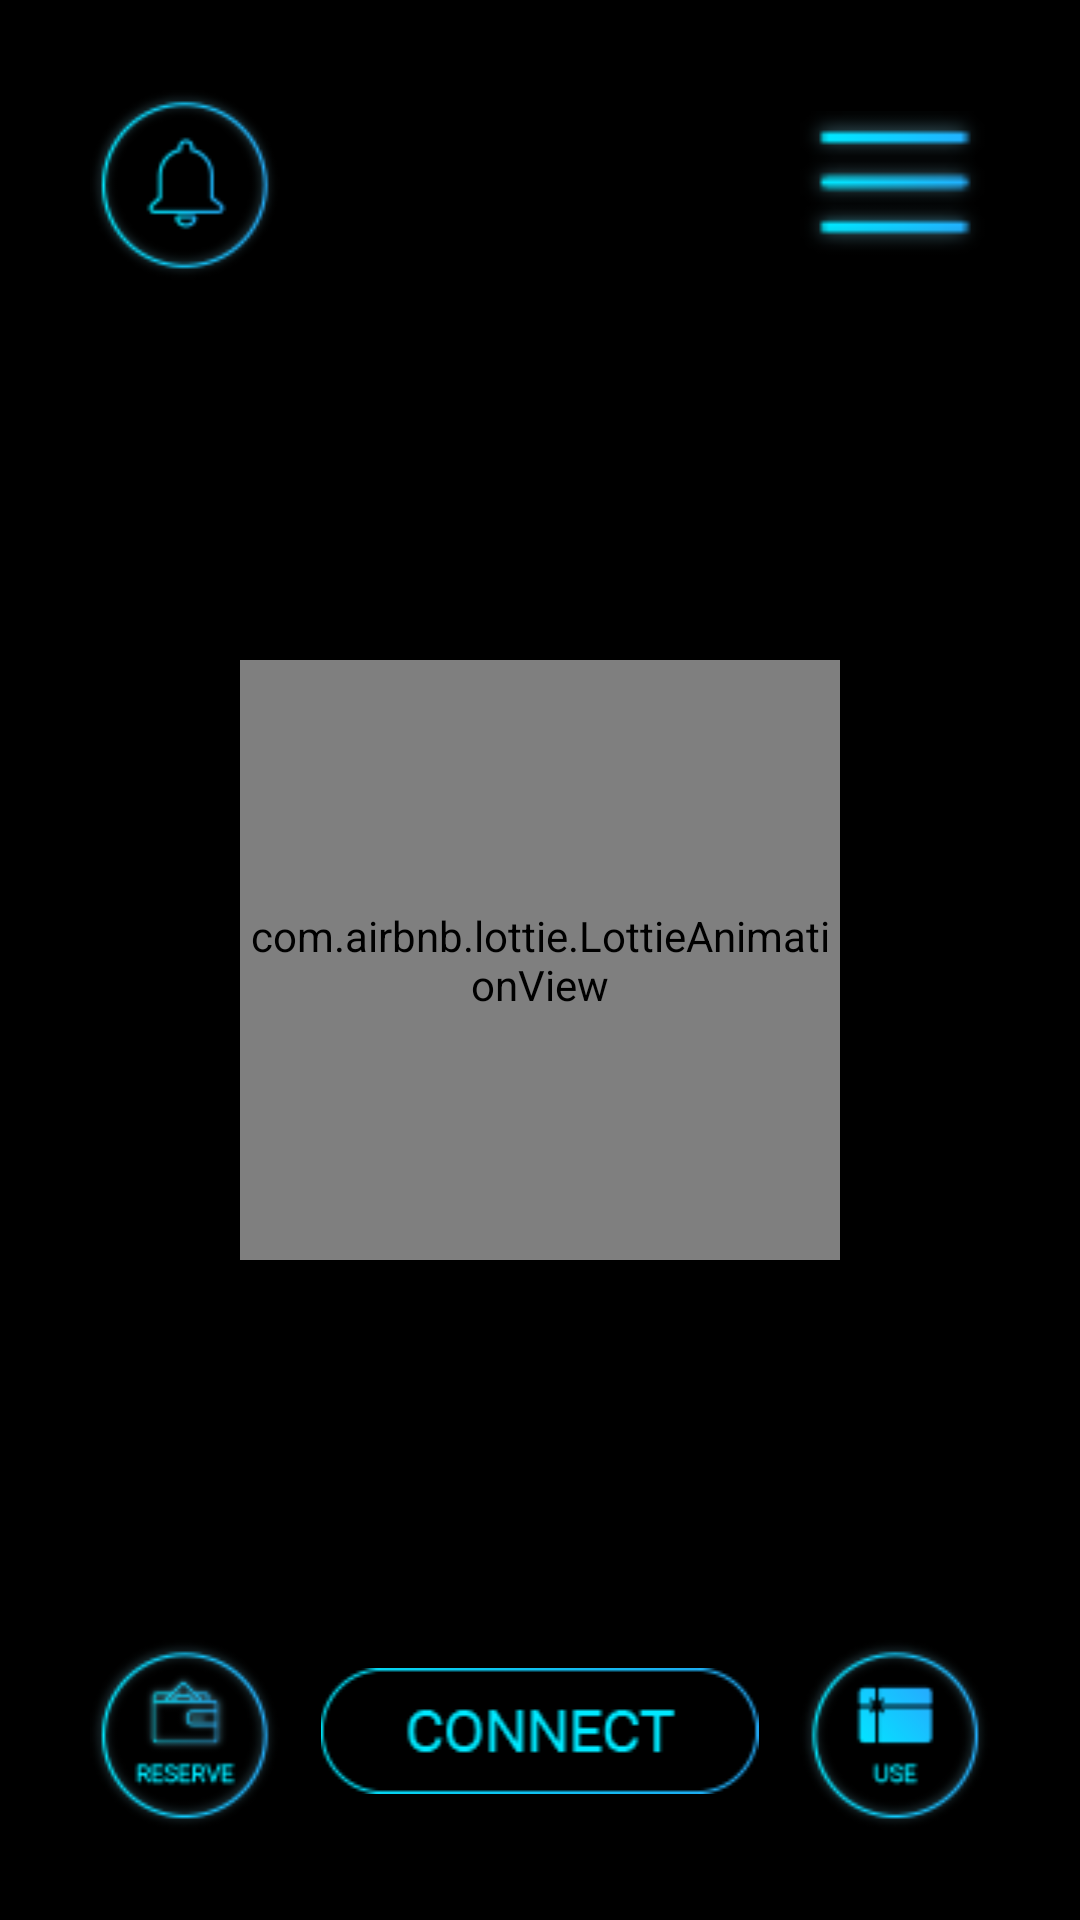

Point at icon controls on the screen. Image size 1080px x 1920px, points as [x,y].
hamburger: [894,181]
ring: [184,184]
